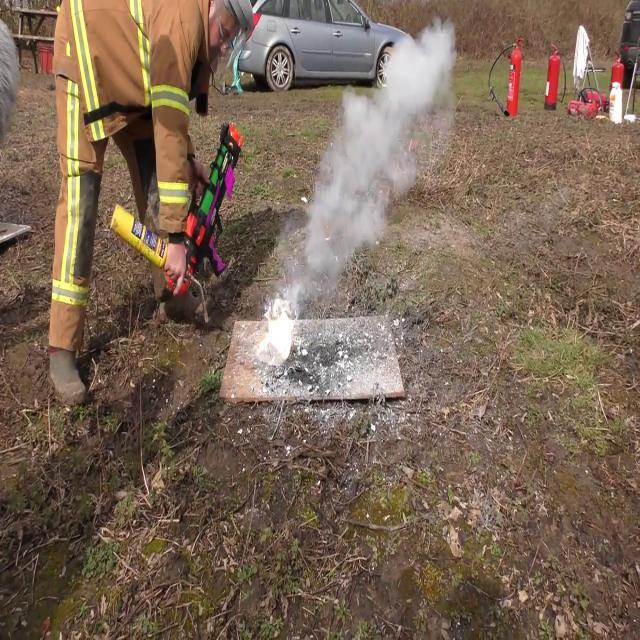Smoke: (285, 15, 455, 299)
